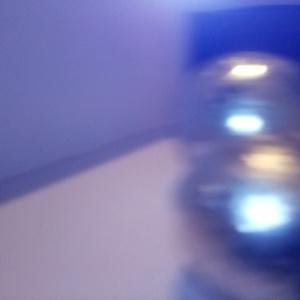alive_ball: (173, 136, 300, 300), (177, 51, 300, 178)
